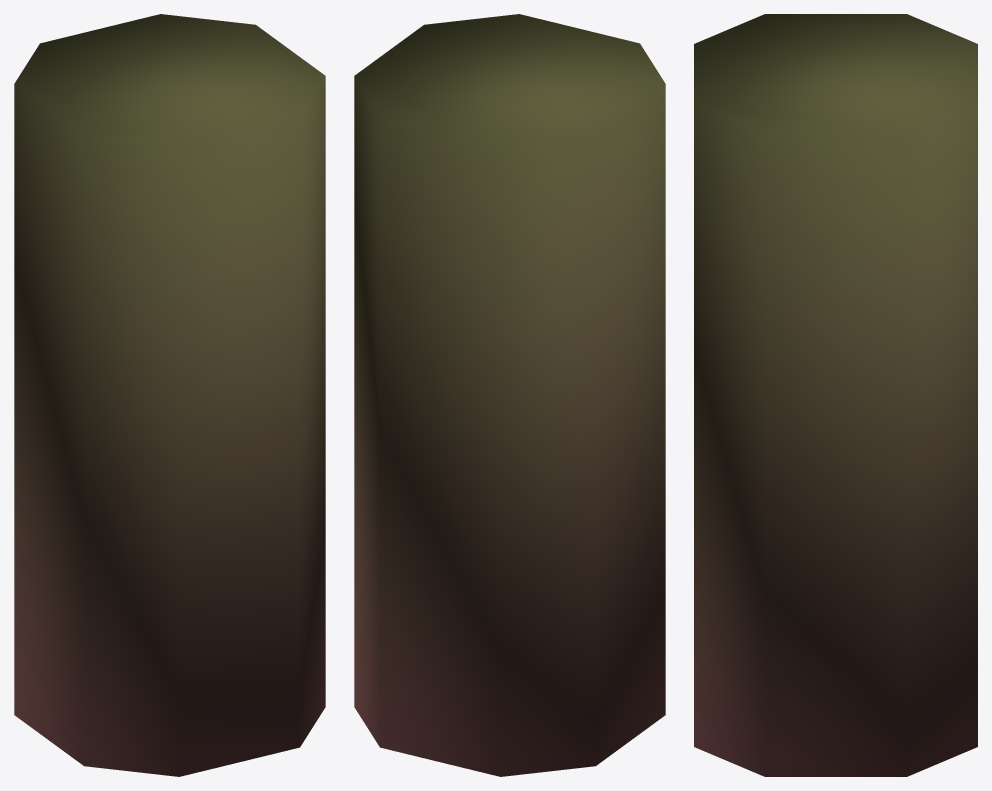
Rendered from rod.glb.
3 renders of one model, left to right at view 1: azimuth 30°, elevation 25°; view 2: azimuth 150°, elevation 25°; view 3: azimuth 270°, elevation 25°, orthographic.
Visible parts, largest first — view 1: rod; view 2: rod; view 3: rod.
Part boxes in pixels (x1,y1,x2,y2): rod: (14,14,325,776); rod: (354,14,665,776); rod: (694,14,977,776).
Size of the model in its own units: 0.4 by 1 by 0.4.
